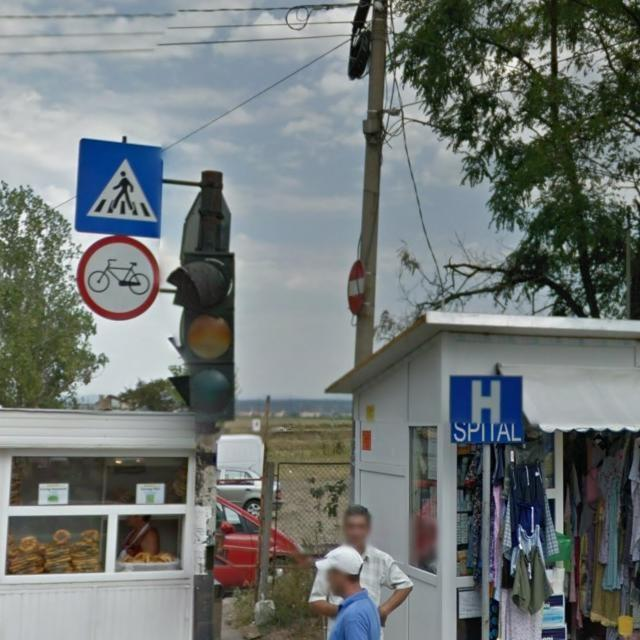info_crosswalk: (77, 137, 160, 237)
